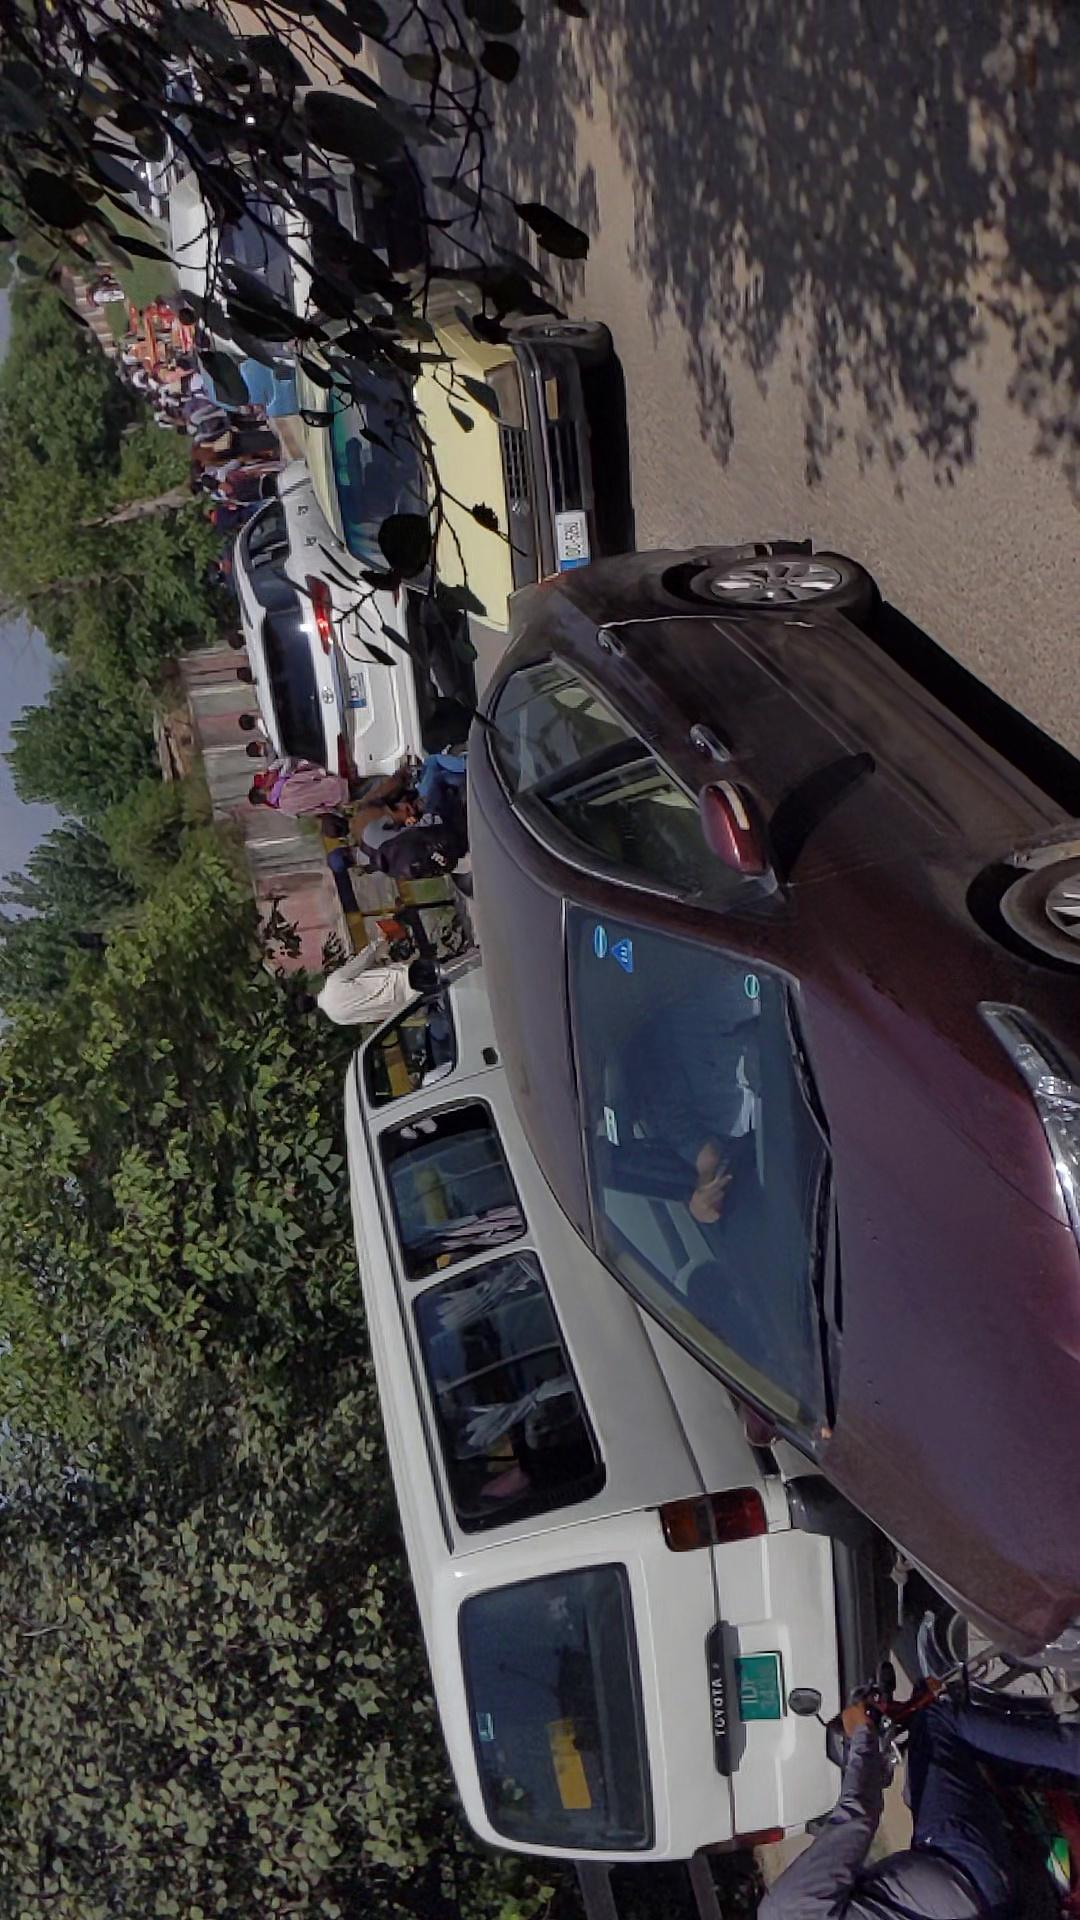windshield: (260, 972, 568, 1452)
